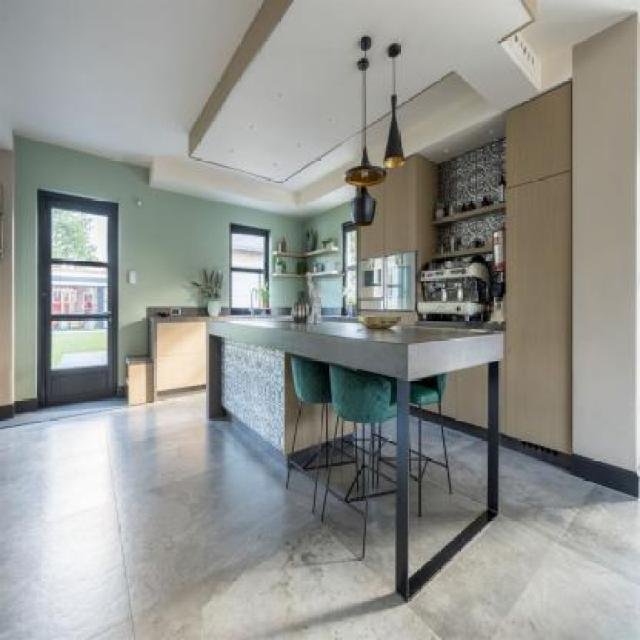floor: (0, 394, 640, 640)
